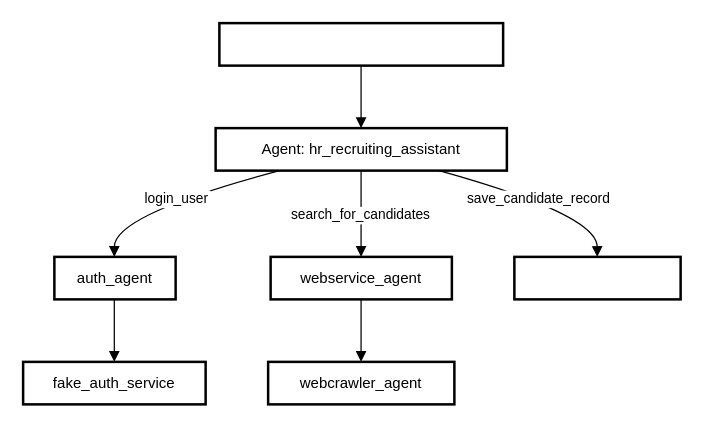
Image size: 703x426. Some labels were removed from this diagram. The shapes that lost their labels are listed below. From the top down, each one's centre as x and y in pixels, then its label:
(x=361, y=43): HR User via SDK - ADK Web UI
(x=596, y=277): dbservice_agent
